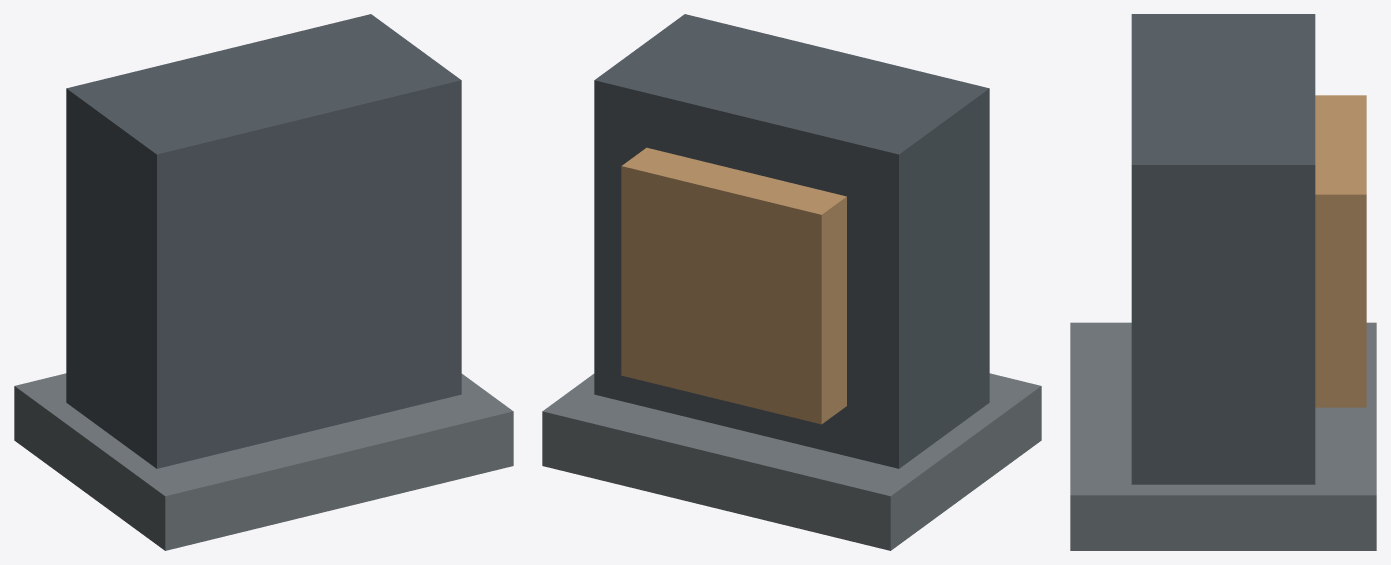
File: extension_reel.glb
3 views of the same model, side by side, from view 1: azimuth 30°, elevation 25°; view 2: azimuth 150°, elevation 25°; view 3: azimuth 270°, elevation 25° (orthographic).
Parts seen in each view (by area): view 1: body; view 2: body; view 3: body.
Part boxes in pixels (x1,y1,x2,y2): body: [14, 14, 513, 550]; body: [542, 14, 1041, 550]; body: [1070, 14, 1376, 550].
Bounding box in the file's own units: 0.4 × 0.405 × 0.3.
